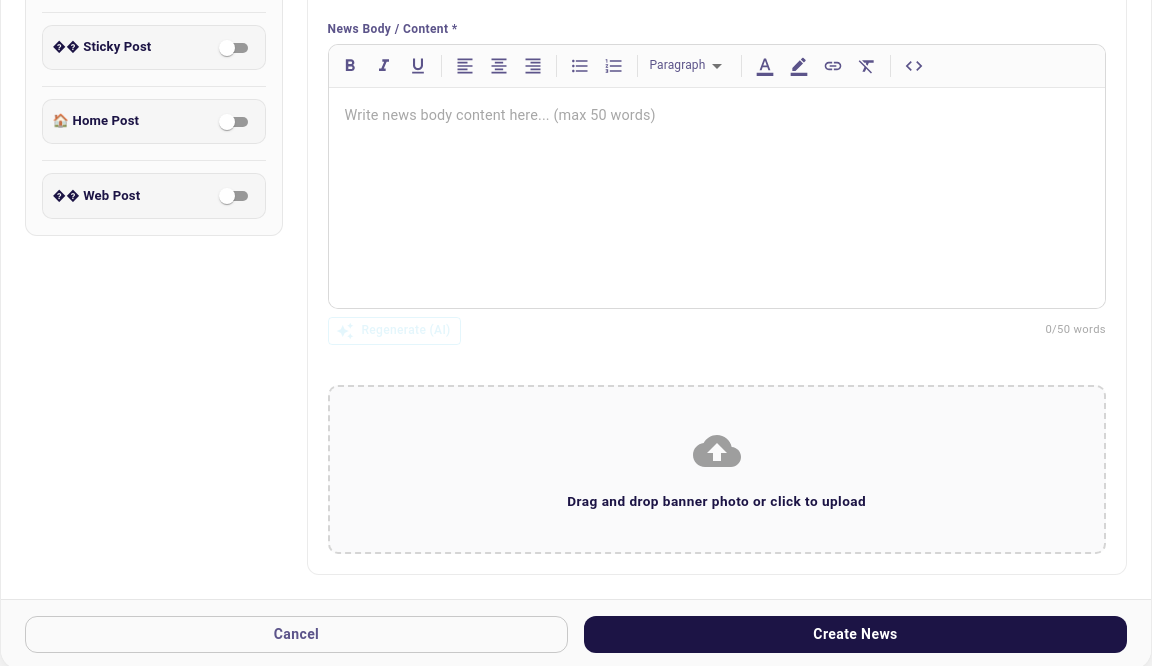
Test: CreateNewsForm component › should show validation errors when submitting invalid form
(page scrolled)
Click the button "Create News" at (856, 634), box [584,616,1127,653]
(page scrolled)
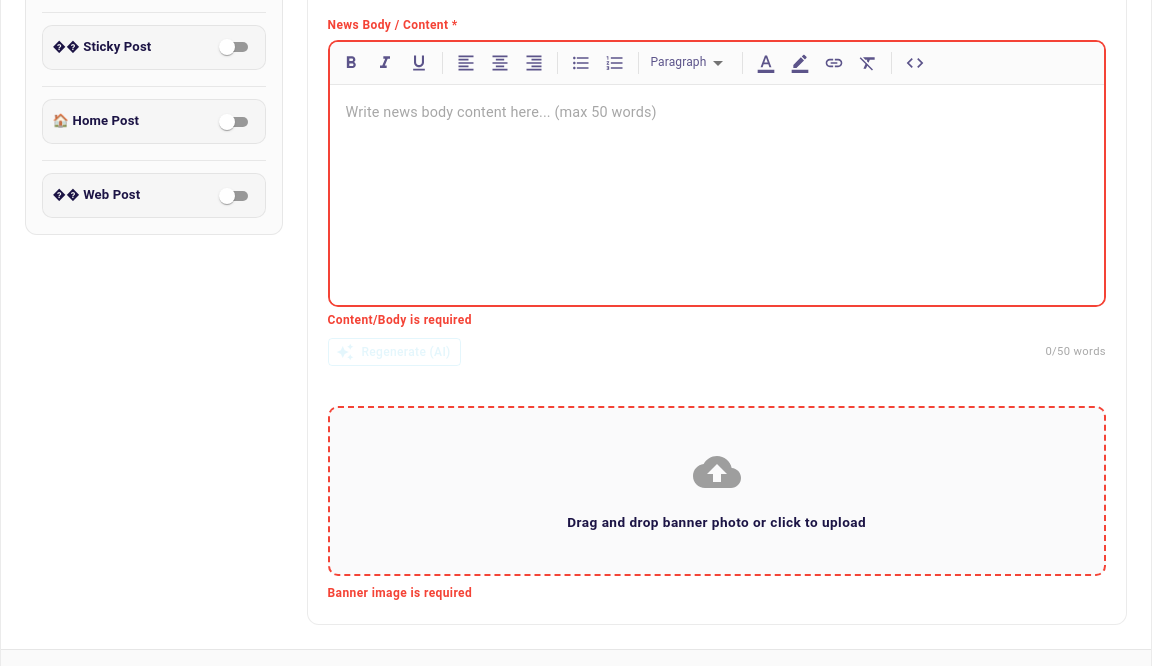
expect the text "Content/Body is required" is shown: met, box [328,313,472,327]
expect the text "Banner image is required" is shown: met, box [328,586,472,600]
